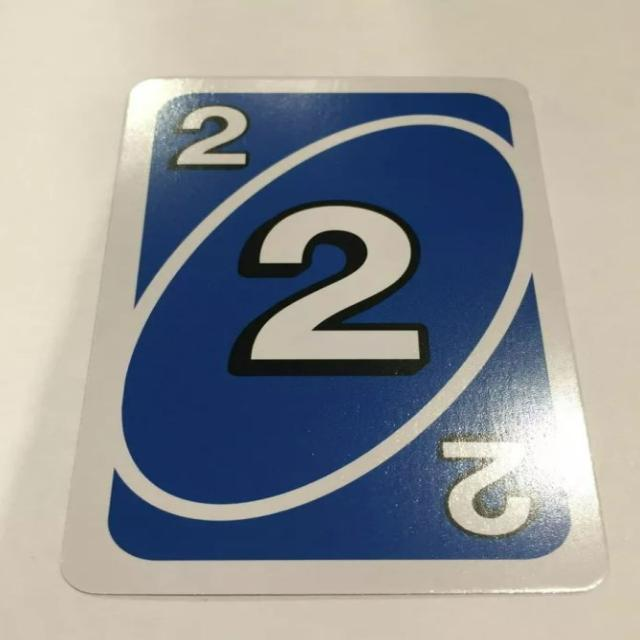Blue_Card: (102, 84, 578, 566)
Number_2: (166, 100, 251, 172)
